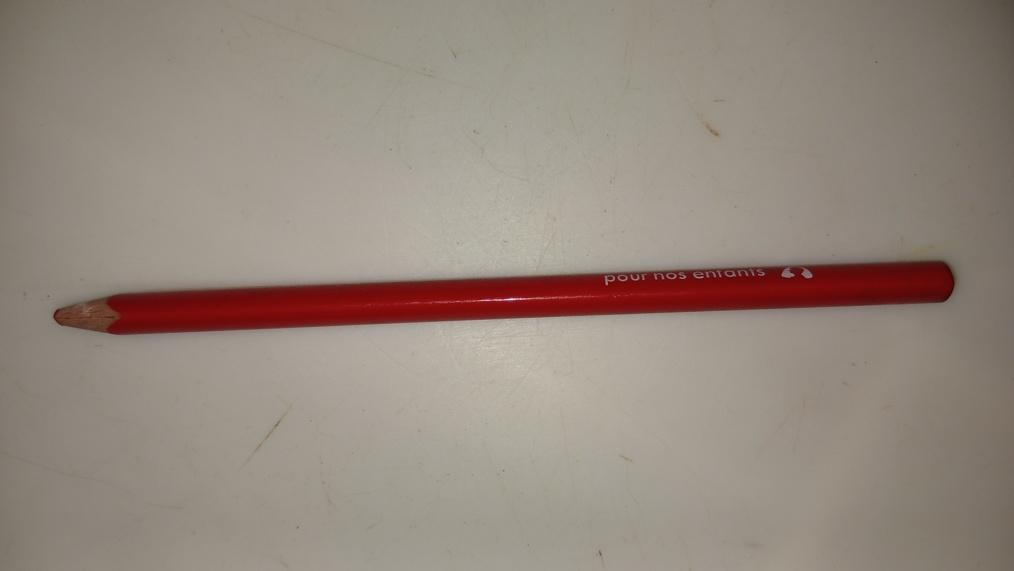Pencil: (46, 259, 954, 336)
